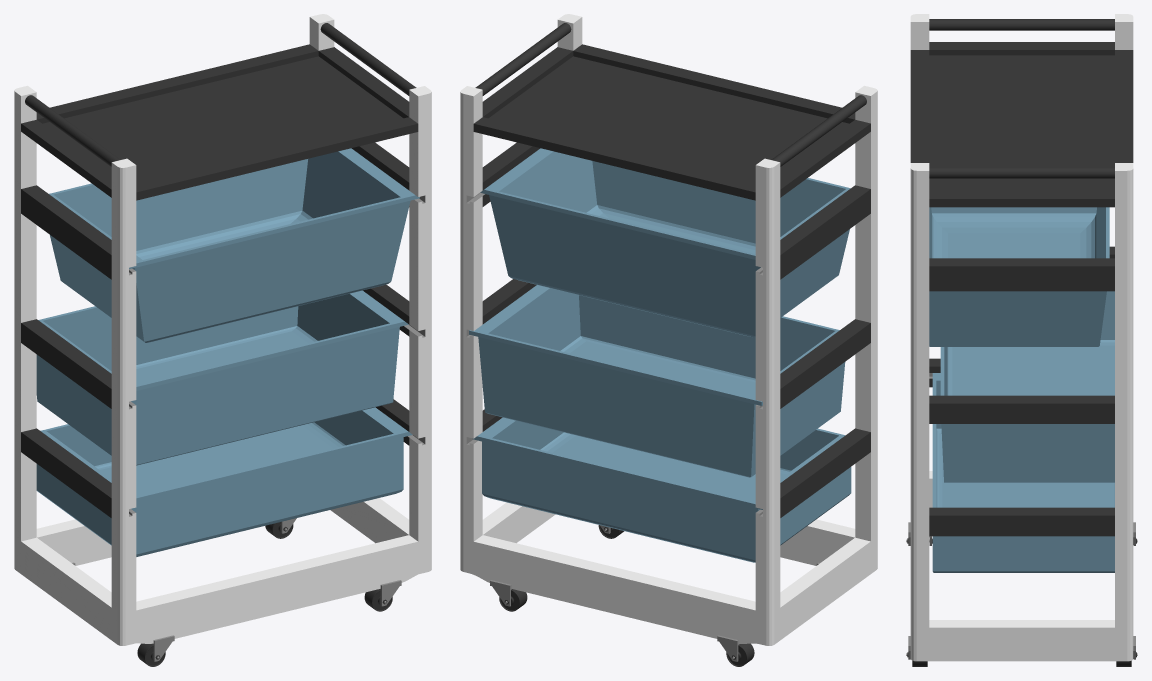
The model's file is MedicalTrolley.fbx.
The picture shows the model from 3 angles, left to right: view 1: azimuth 30°, elevation 25°; view 2: azimuth 150°, elevation 25°; view 3: azimuth 270°, elevation 25°; orthographic projection. The views are drawn at different scales.
Parts seen in each view (by area): view 1: TrolleyFrame, Cube.002, Cube.001, Cube; view 2: TrolleyFrame, Cube.001, Cube.002, Cube; view 3: TrolleyFrame, Cube.001, Cube.002, Cube.
Boxes of the visible parts, x1,y1,x2,y2 form: TrolleyFrame: (14,14,431,645); Cube.002: (49,148,419,342); Cube.001: (36,290,408,465); Cube: (36,407,412,556); TrolleyFrame: (460,14,877,645); Cube.001: (469,285,845,477); Cube.002: (480,148,850,337); Cube: (472,417,851,562); TrolleyFrame: (910,14,1133,661); Cube.001: (940,291,1114,482); Cube.002: (929,207,1109,346); Cube: (932,373,1114,572).
Size of the model in its own units: 200 by 309 by 125.
